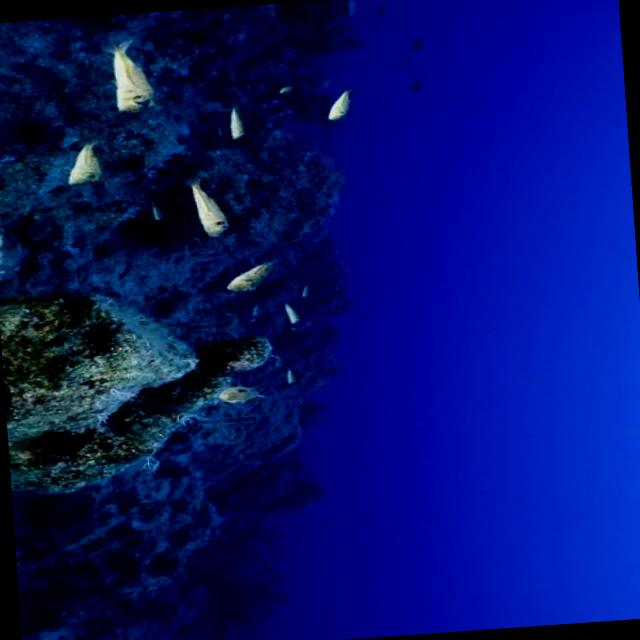Balon Baligi: (100, 38, 167, 116), (186, 175, 238, 237), (64, 138, 110, 188), (223, 256, 283, 292), (210, 379, 270, 411), (322, 83, 364, 120), (215, 100, 251, 141)
